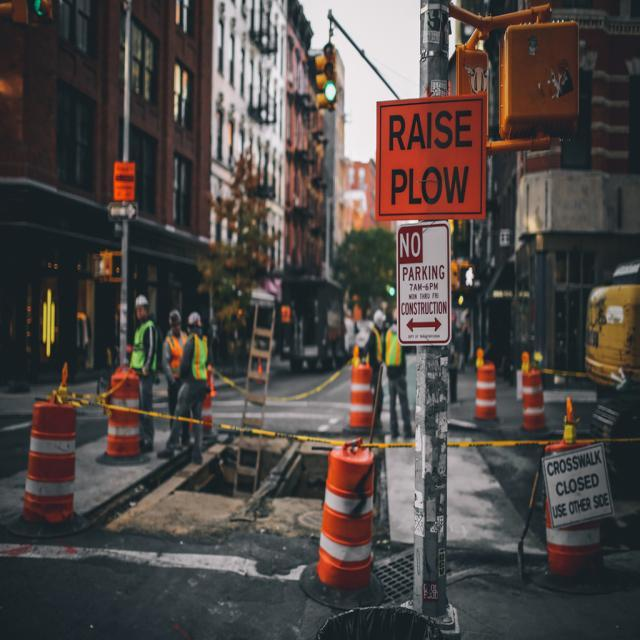traffic light: (318, 47, 339, 111)
